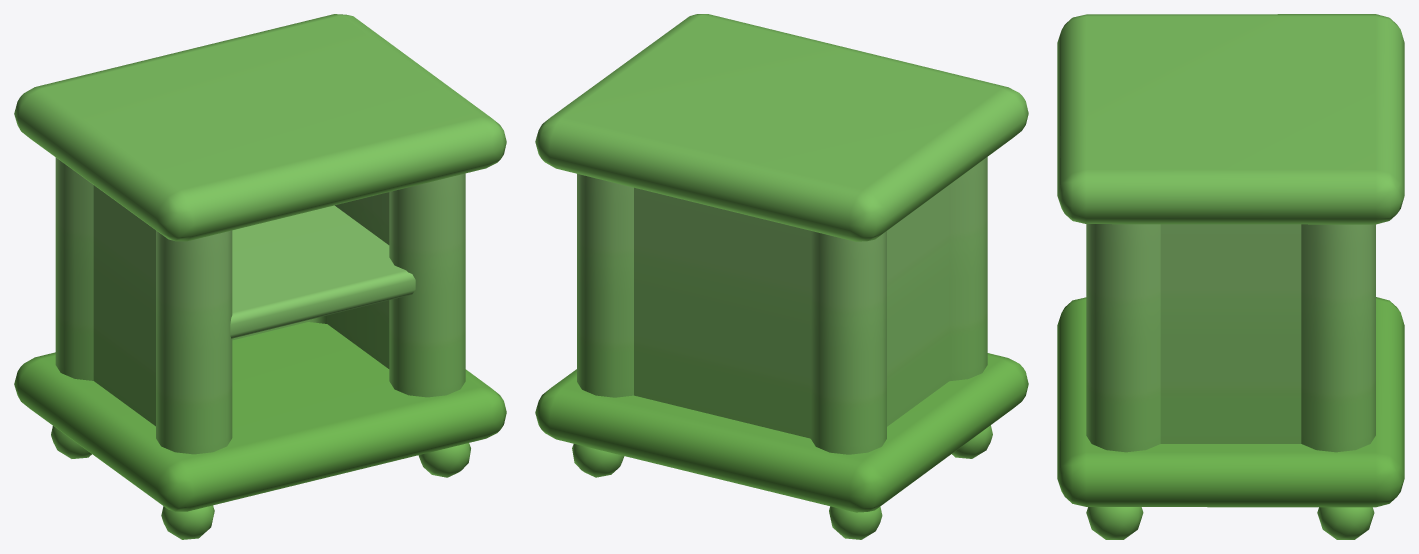
Rendered from Nightstand_12.glb.
3 views of the same model, side by side, from view 1: azimuth 30°, elevation 25°; view 2: azimuth 150°, elevation 25°; view 3: azimuth 270°, elevation 25° (orthographic). The views are drawn at different scales.
Visible parts, largest first — view 1: Nightstand_12; view 2: Nightstand_12; view 3: Nightstand_12.
Boxes of the visible parts, <box> form: Nightstand_12: <box>14,14,506,539</box>; Nightstand_12: <box>535,14,1028,539</box>; Nightstand_12: <box>1057,14,1404,539</box>.
Bounding box in the file's own units: 0.58 × 0.5796 × 0.48.
Materials: 1 (1 with a texture image).
